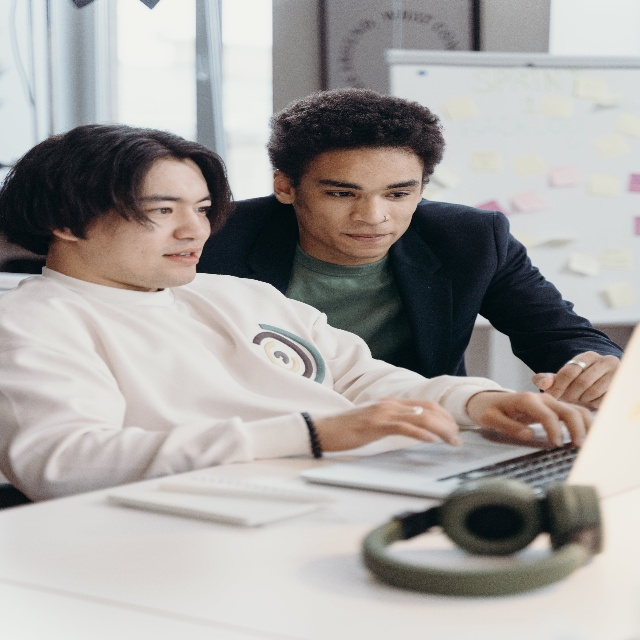Sin_guantes: (317, 394, 461, 448), (470, 390, 598, 449), (532, 339, 623, 405)
